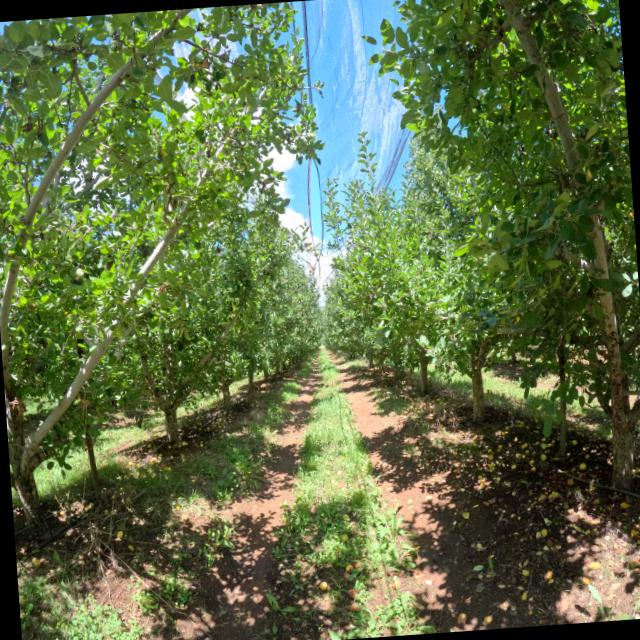-FireBlight-: (7, 396, 26, 418)
